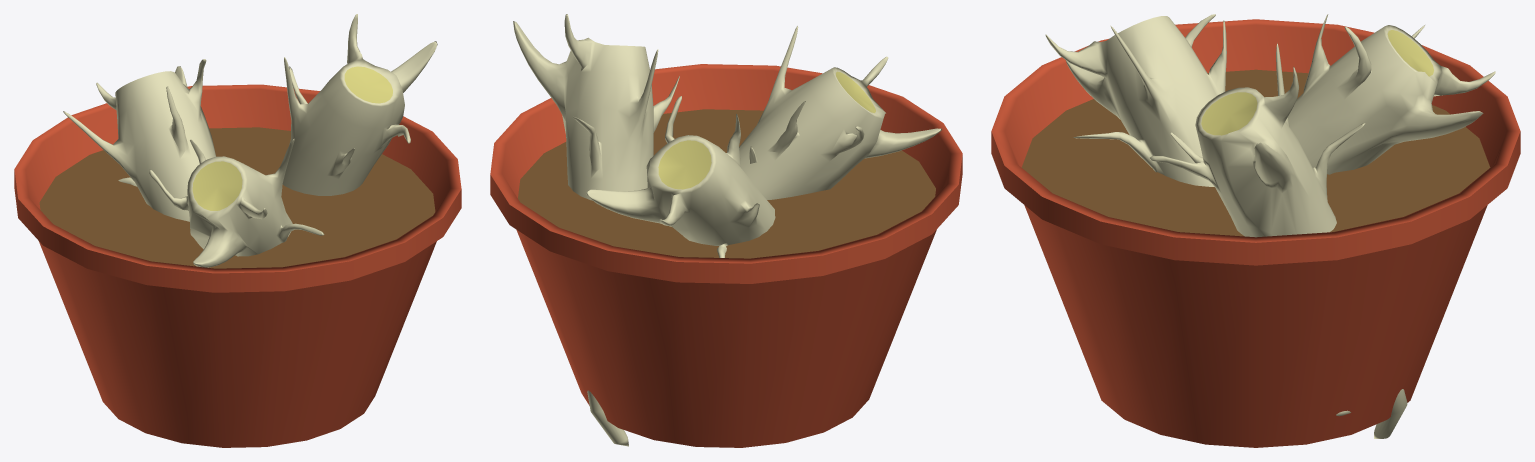
File: Root Planter.fbx
The picture shows the model from 3 angles, left to right: view 1: azimuth 30°, elevation 25°; view 2: azimuth 150°, elevation 25°; view 3: azimuth 270°, elevation 25°; orthographic projection. The views are drawn at different scales.
Parts seen in each view (by area): view 1: polySurface3; view 2: polySurface3; view 3: polySurface3.
Boxes of the visible parts, x1=… form: polySurface3: x1=14, y1=14, x2=461, y2=447; polySurface3: x1=490, y1=14, x2=962, y2=447; polySurface3: x1=991, y1=14, x2=1520, y2=447.
Bounding box in the file's own units: 4.75 × 4.16 × 4.68.
